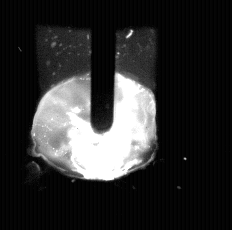arame: (92, 0, 115, 135)
poca: (32, 0, 157, 230)
